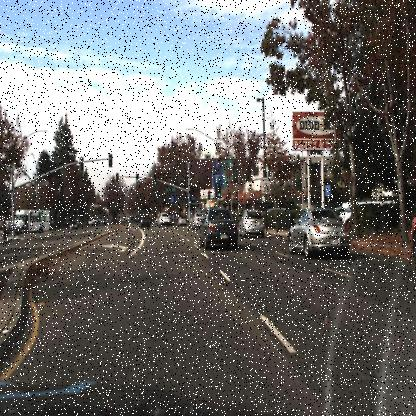car: (286, 206, 348, 255), (198, 204, 240, 255), (237, 207, 268, 238), (338, 196, 368, 226), (191, 204, 206, 236), (138, 211, 154, 230), (156, 210, 171, 227), (174, 212, 188, 228)
trafficLight-Green: (150, 174, 158, 190), (216, 182, 223, 198), (187, 196, 193, 212), (134, 171, 139, 186)
trafficLight-Red: (113, 170, 119, 188)
truck: (11, 205, 51, 236), (14, 207, 52, 236)
